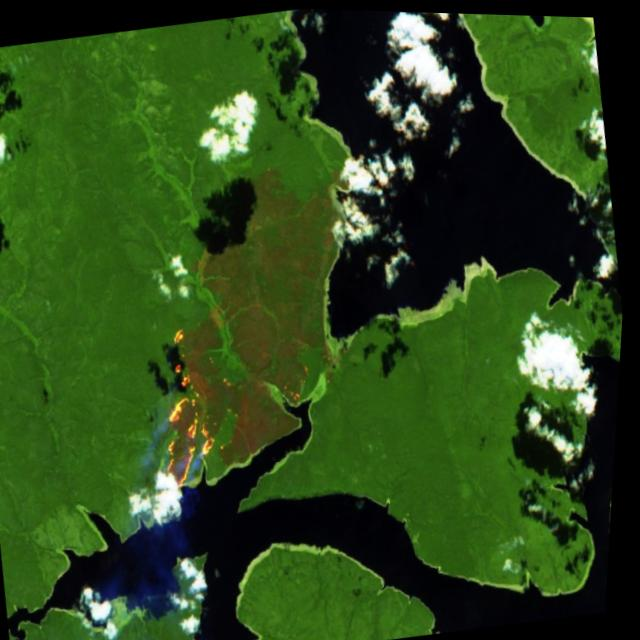fire: (131, 315, 253, 512)
